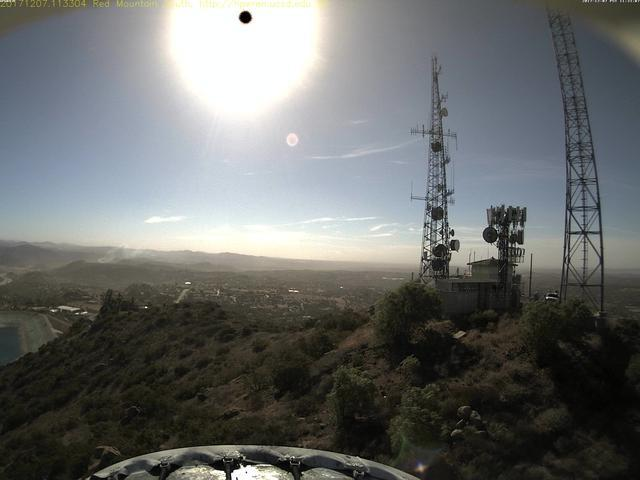smoke: (87, 232, 158, 266)
